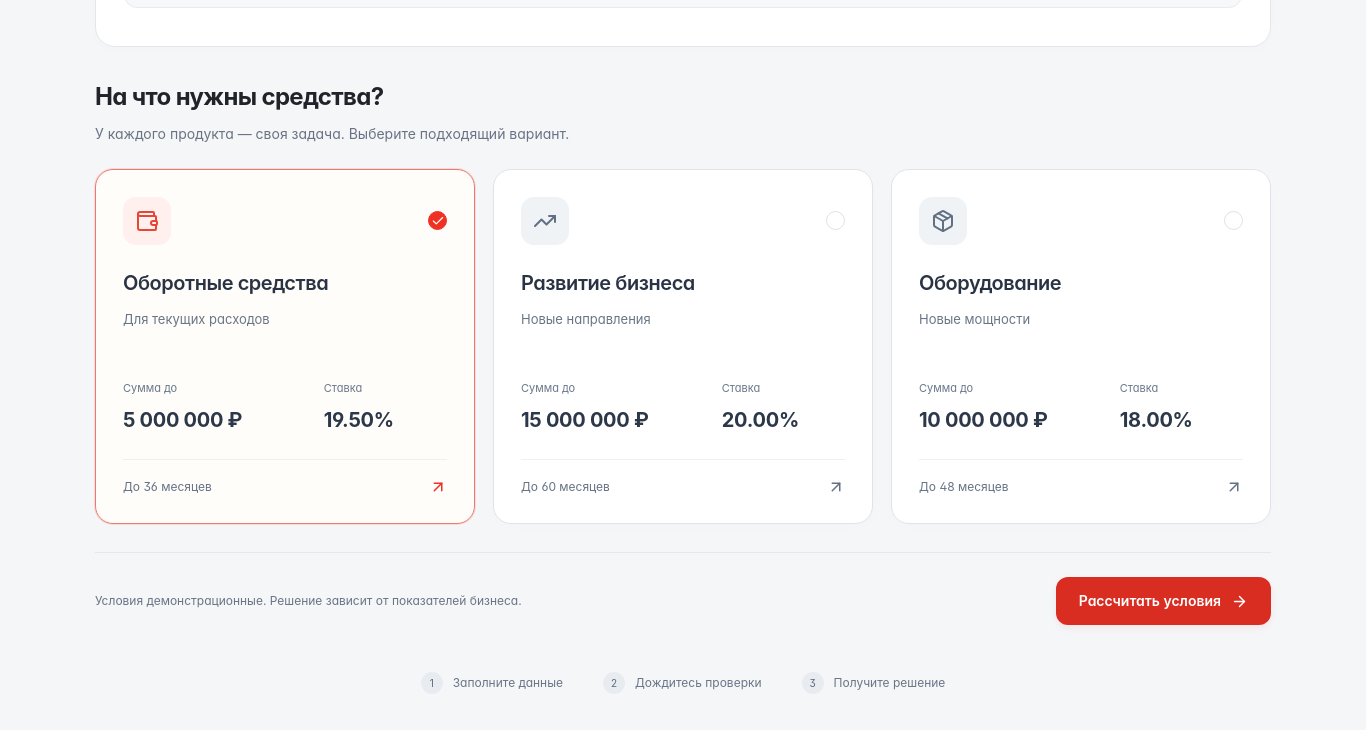
credit form › keeps product selection and calculates conditions within the same page
(page scrolled)
Check: the heading "На что нужны средства?" is shown, box [95,82,383,111]
What coordinates should you click on to do the following:
click the button "Оборудование"
I would click on:
 (943, 221)
Its box is [891,169,1271,524].
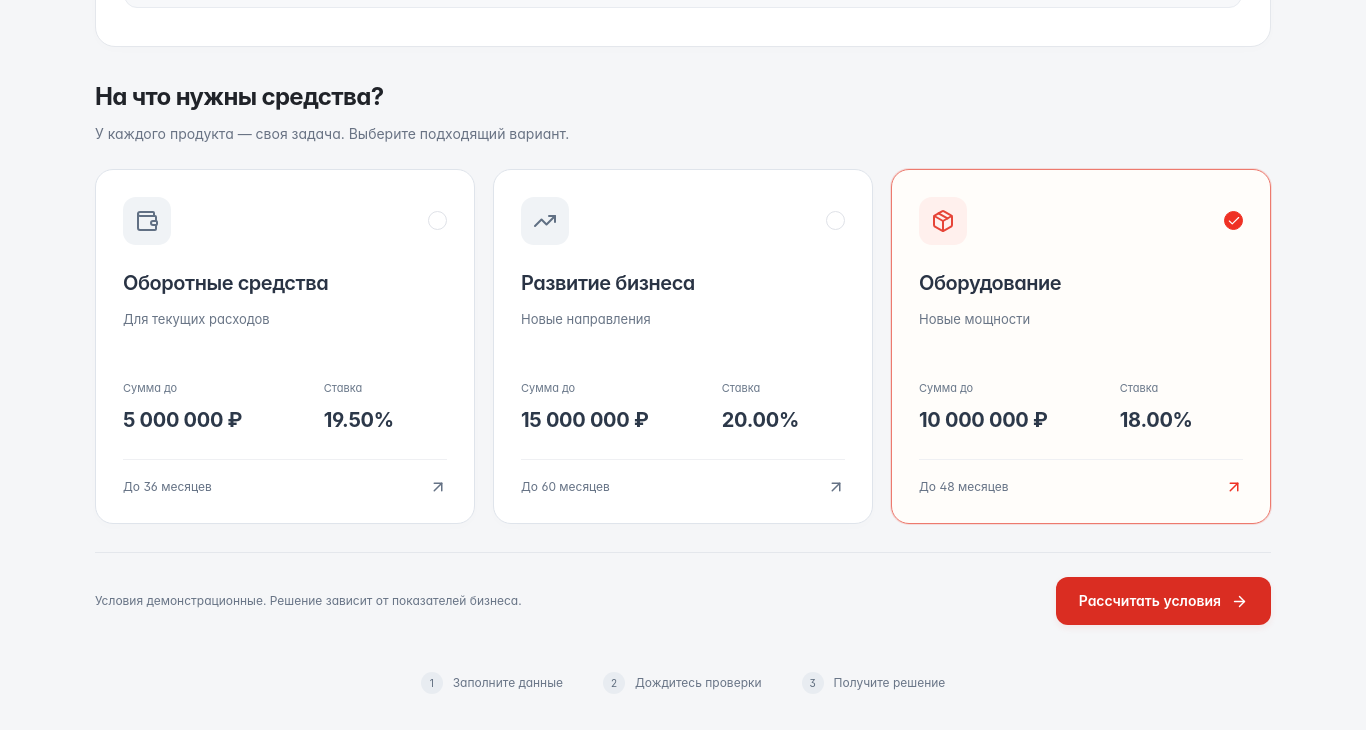
What coordinates should you click on to do the following:
click the button "Рассчитать условия"
I would click on:
 (1163, 601)
Its box is [1056,577,1271,625].
(page scrolled)
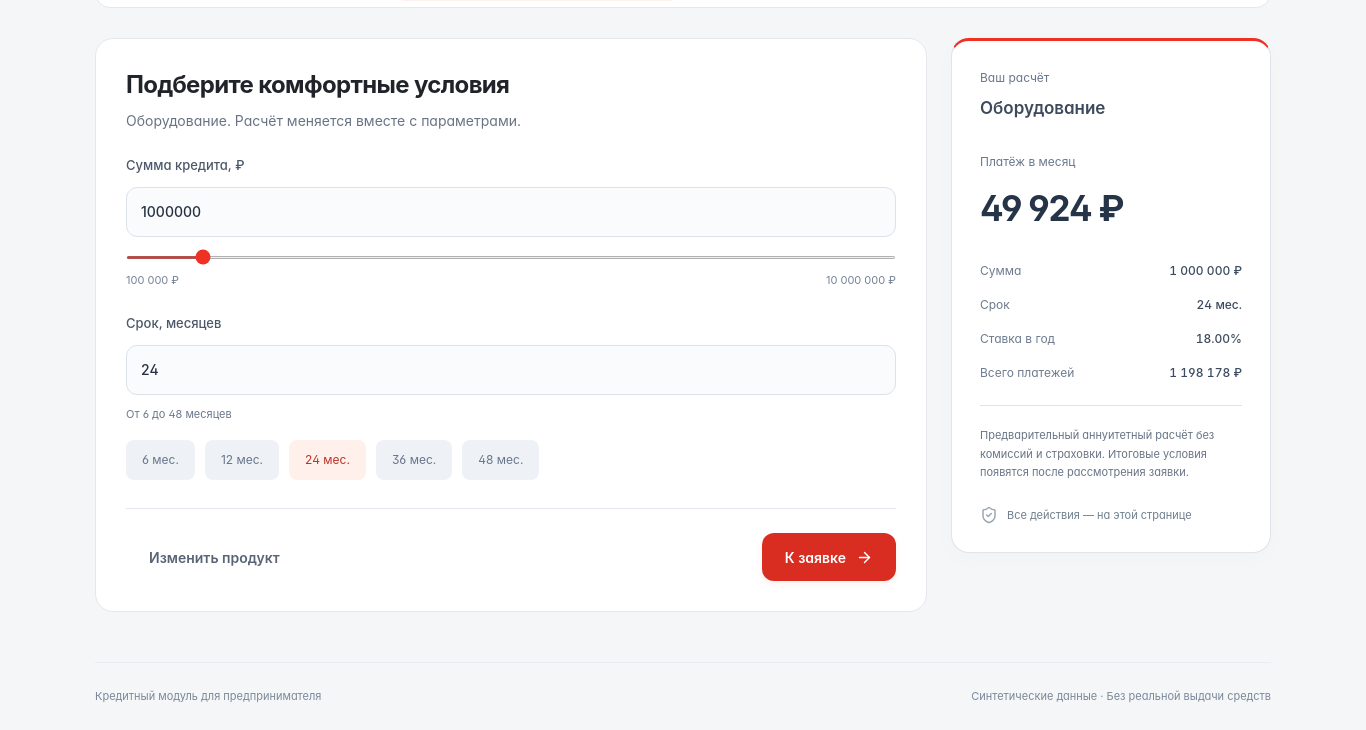
Check: the heading "Подберите комфортные условия" is shown, box [126,69,521,100]
Check: the number field labelled "Сумма кредита, ₽" holds "1000000", box [126,187,896,237]
Check: the text "18.00%" is shown, box [1196,330,1242,348]
